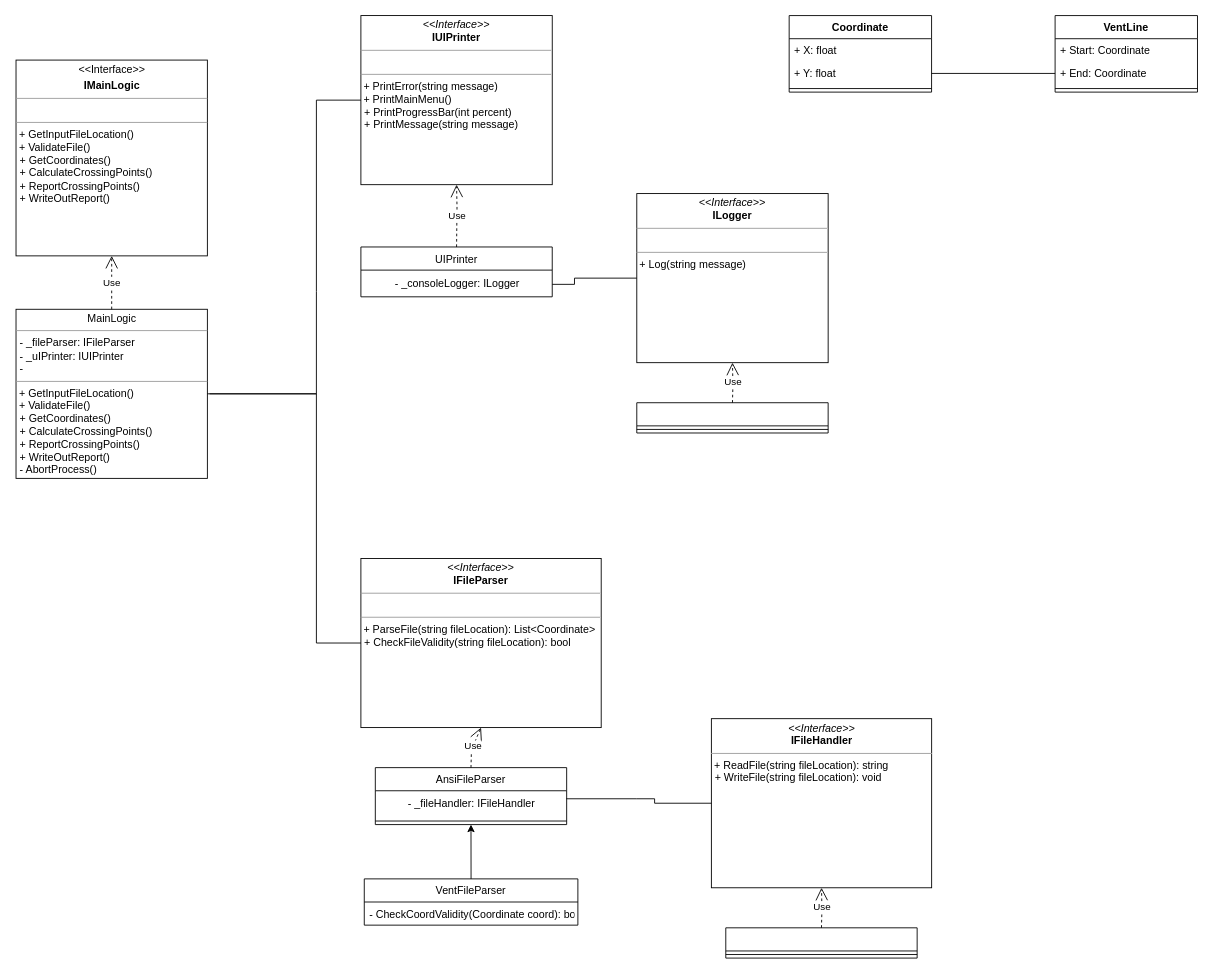
Image size: 1213x974. Some labels were removed from this diagram. The centre of each missing label's shape, as x and y in pixels:
ConsoleLogger: pixel 732 417
FileHandler: pixel 821 942
